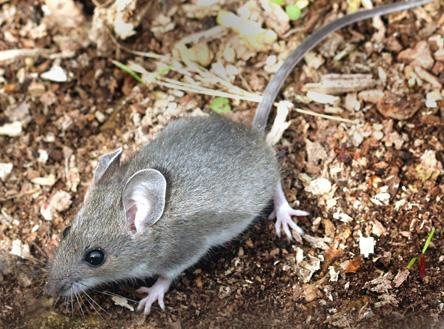rat: (50, 1, 428, 312)
